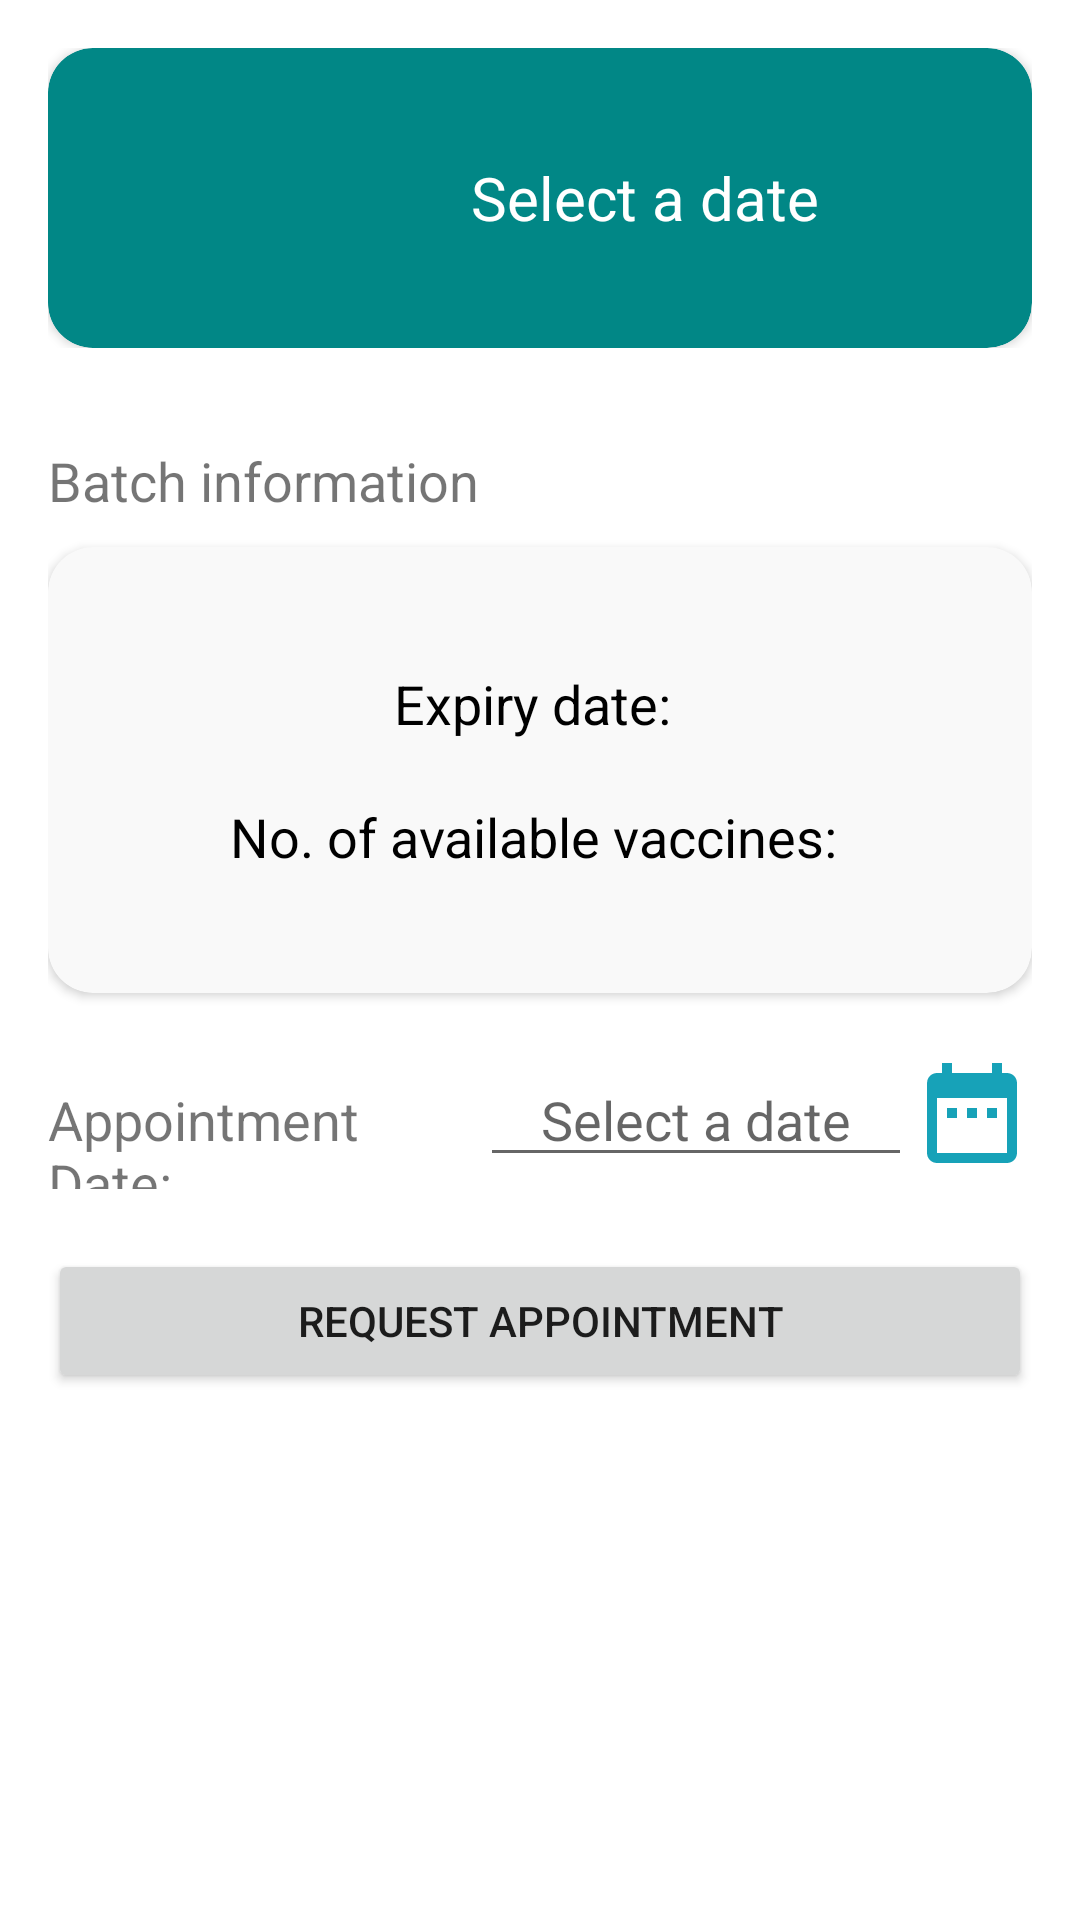

Where to tap for icons on this 1080*1920 app screen, as [x,y]:
calendar: [972,1113]
